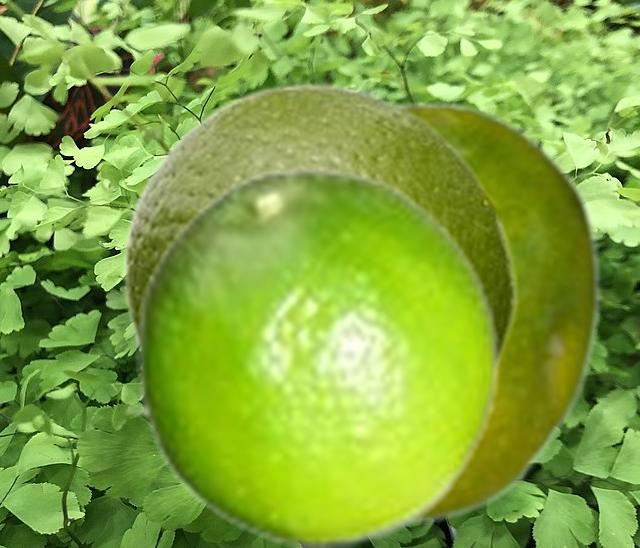calamansi: (120, 98, 601, 523), (135, 165, 501, 546), (122, 78, 518, 367)
